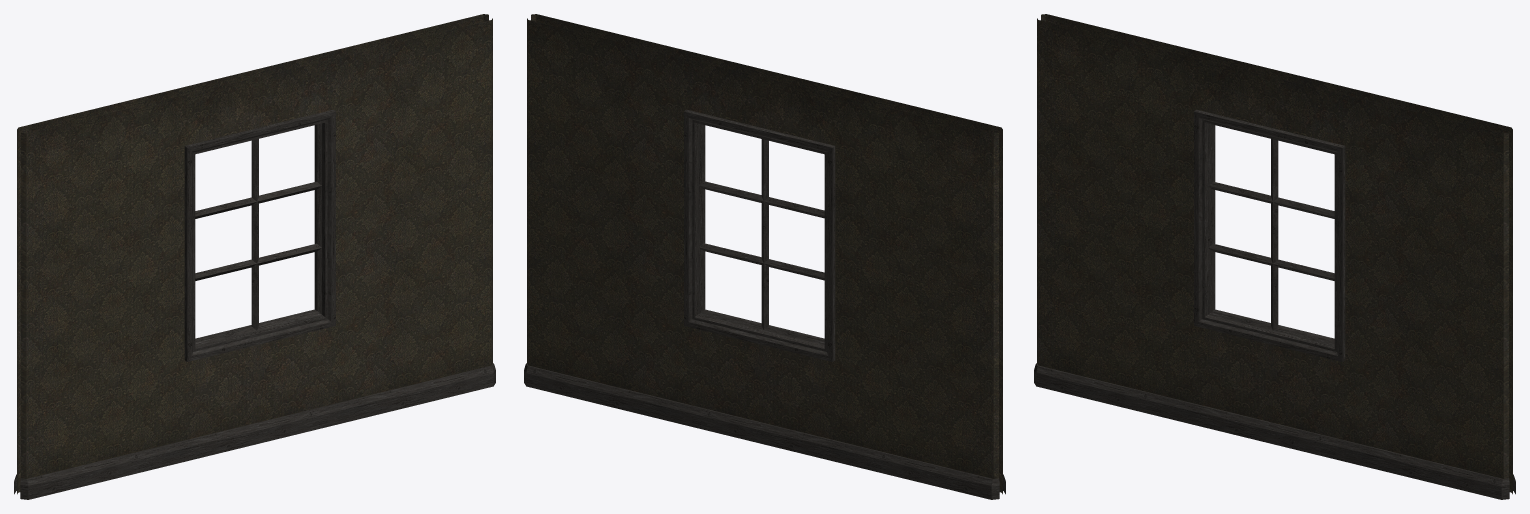
Rendered from window_2_2_single_no_glass.obj.
The picture shows the model from 3 angles, left to right: view 1: azimuth 30°, elevation 25°; view 2: azimuth 150°, elevation 25°; view 3: azimuth 330°, elevation 25°; orthographic projection.
Visible parts, largest first — view 1: window_2_2_single_no_glass; view 2: window_2_2_single_no_glass; view 3: window_2_2_single_no_glass.
Boxes of the visible parts, x1=… form: window_2_2_single_no_glass: x1=14, y1=14, x2=495, y2=499; window_2_2_single_no_glass: x1=524, y1=14, x2=1005, y2=499; window_2_2_single_no_glass: x1=1034, y1=14, x2=1515, y2=499.
Bounding box in the file's own units: 4.09 × 3 × 0.2.
